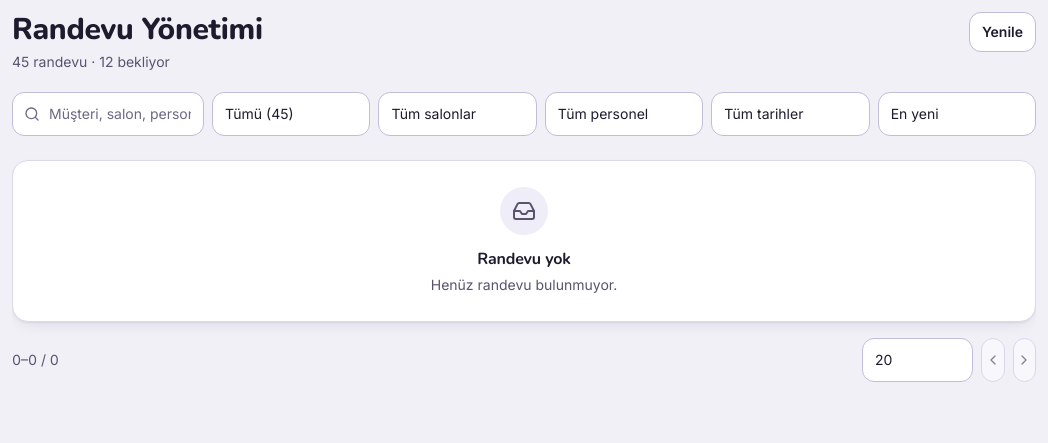
Test case: AppointmentsPage › tablo boş + filtre etkin ise "Eşleşme yok" gösterir
Expected: the text "Randevu yok" is shown, [477,248,571,270]
In the field named "Randevu ara": (108, 114) [12,92,204,136], type "xyz"
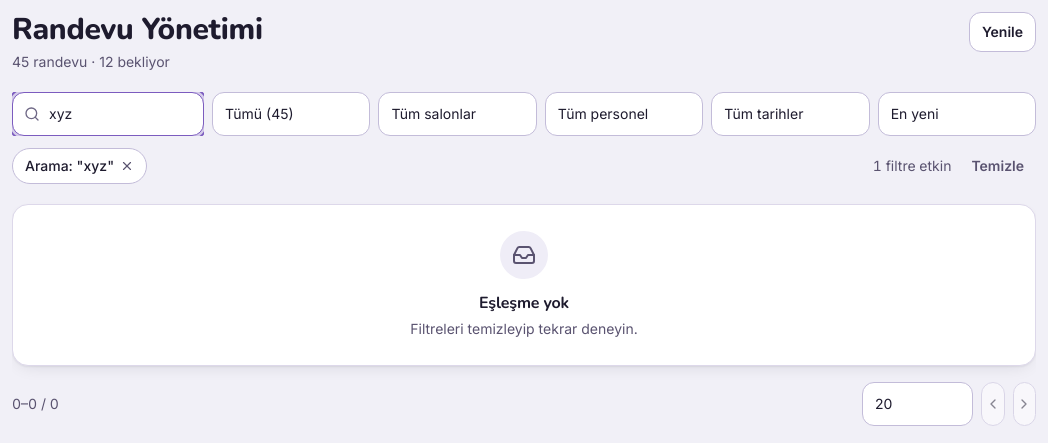
Result: the text "Eşleşme yok" is shown at [479,292,569,314]
Result: the text "Randevu yok" is gone
